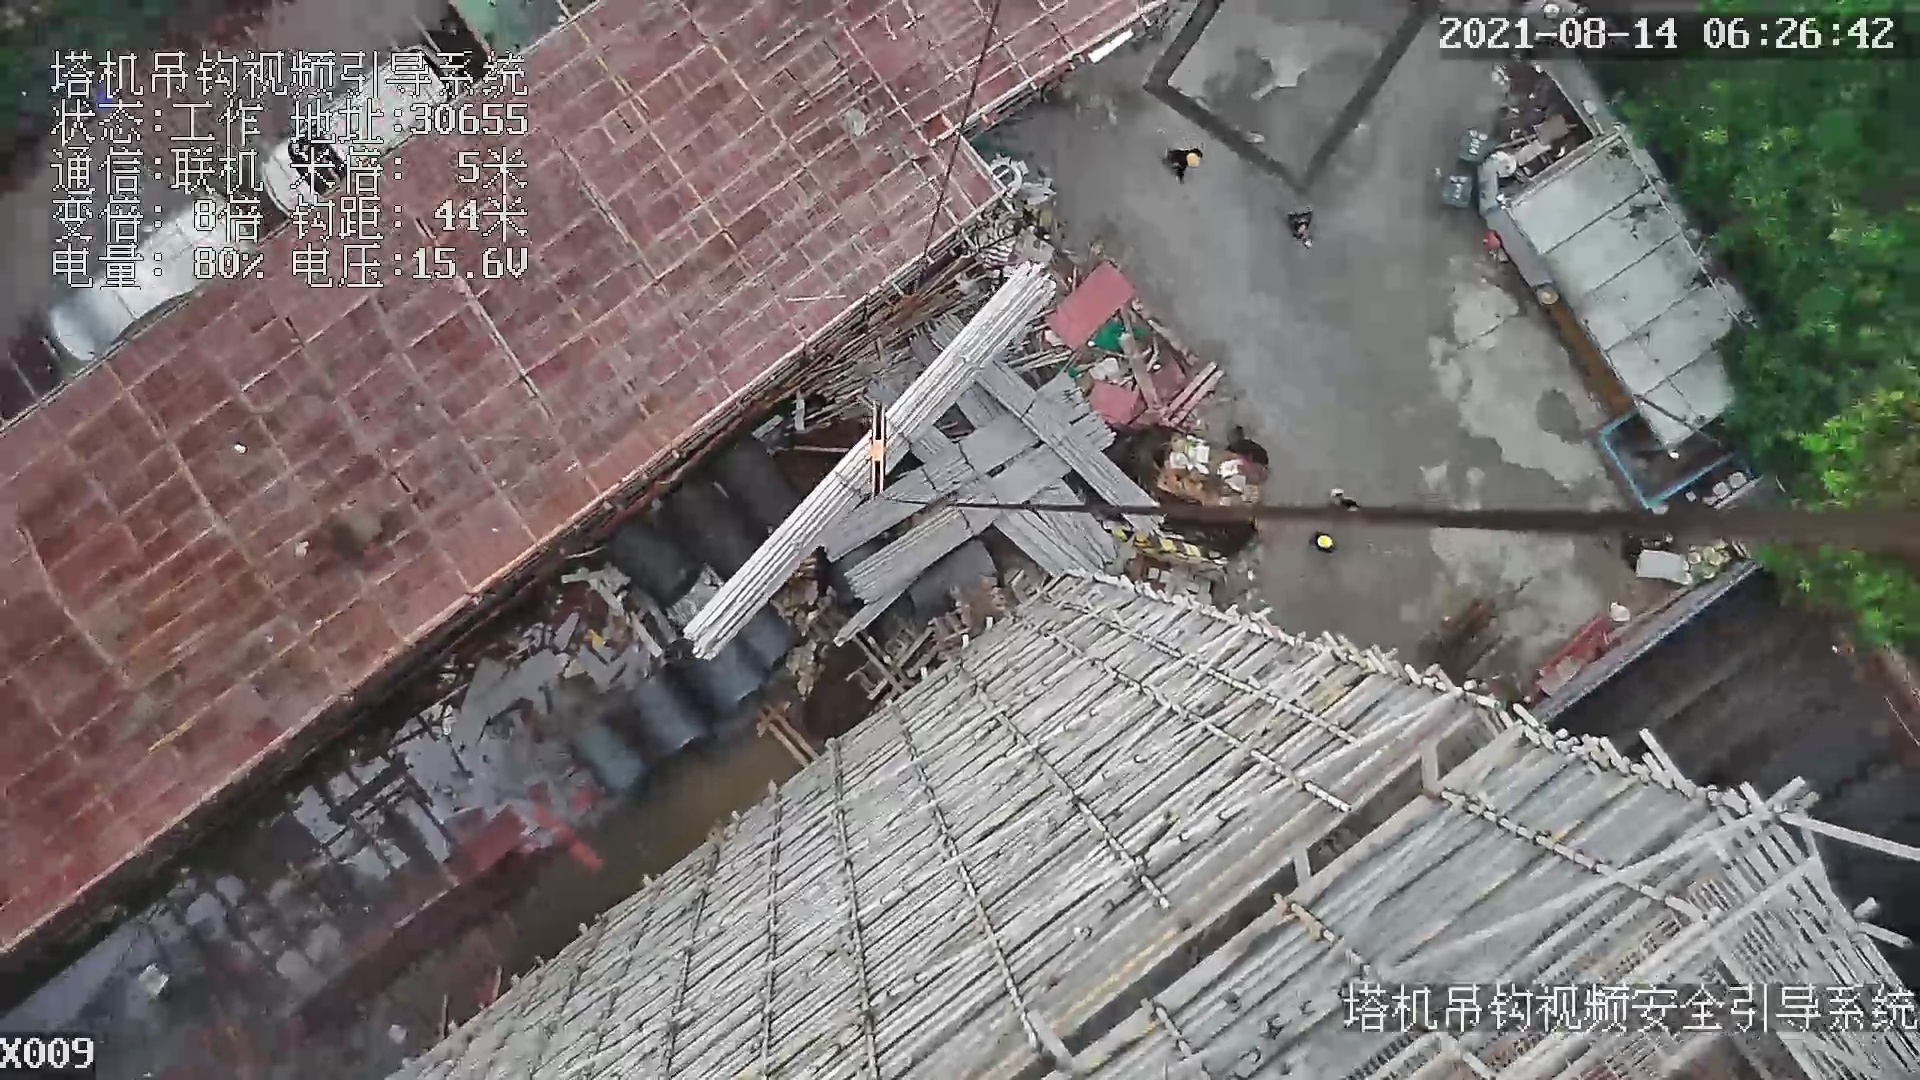helmet: (1182, 149, 1201, 170), (1316, 535, 1335, 550)
person: (1164, 141, 1208, 183), (1309, 533, 1328, 551)
